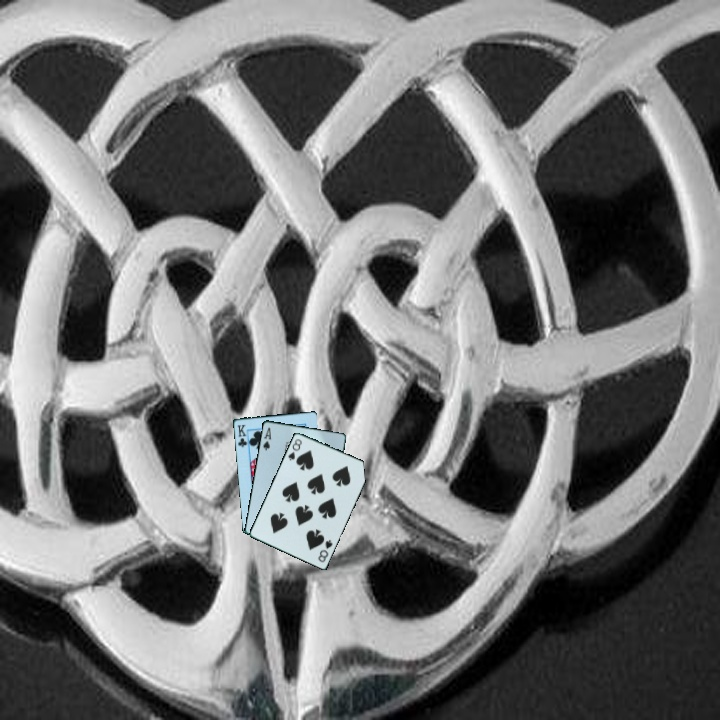8s: (315, 536, 335, 565), (284, 435, 304, 463)
As: (259, 424, 274, 453)
Kc: (234, 421, 249, 450)
